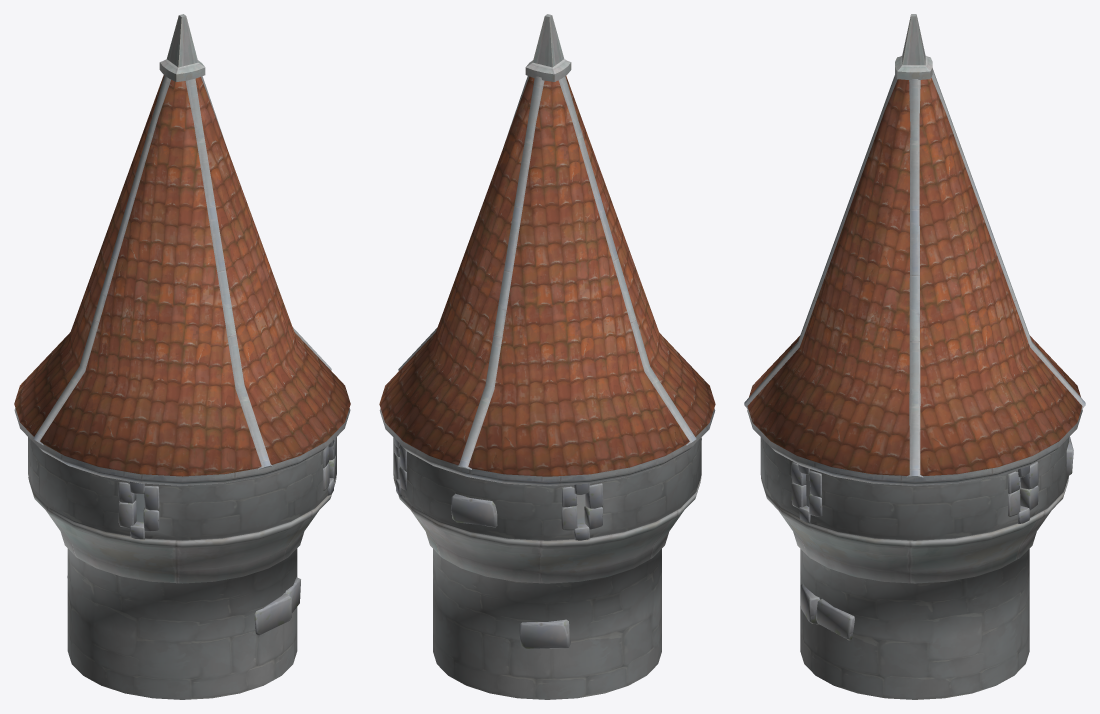
File: SM_TowerC_Top_02.fbx
3 views of the same model, side by side, from view 1: azimuth 30°, elevation 25°; view 2: azimuth 150°, elevation 25°; view 3: azimuth 270°, elevation 25° (orthographic).
Parts seen in each view (by area): view 1: SM_TowerC_Top_02_LOD0; view 2: SM_TowerC_Top_02_LOD0; view 3: SM_TowerC_Top_02_LOD0.
Boxes of the visible parts, <box> form: SM_TowerC_Top_02_LOD0: <box>14,14,350,699</box>; SM_TowerC_Top_02_LOD0: <box>379,14,715,699</box>; SM_TowerC_Top_02_LOD0: <box>744,14,1085,699</box>.
Size of what is drawn, in the model's own units: 595 by 1224 by 595.
